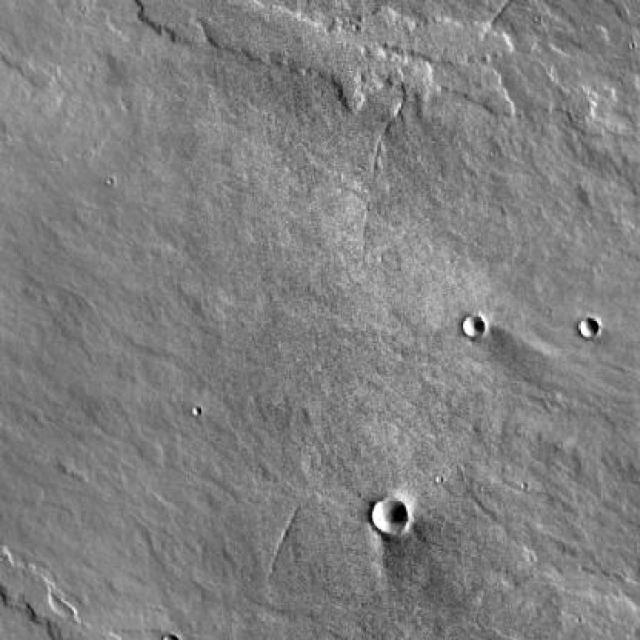crater: (372, 501, 410, 536), (463, 316, 483, 336), (576, 319, 596, 338)
